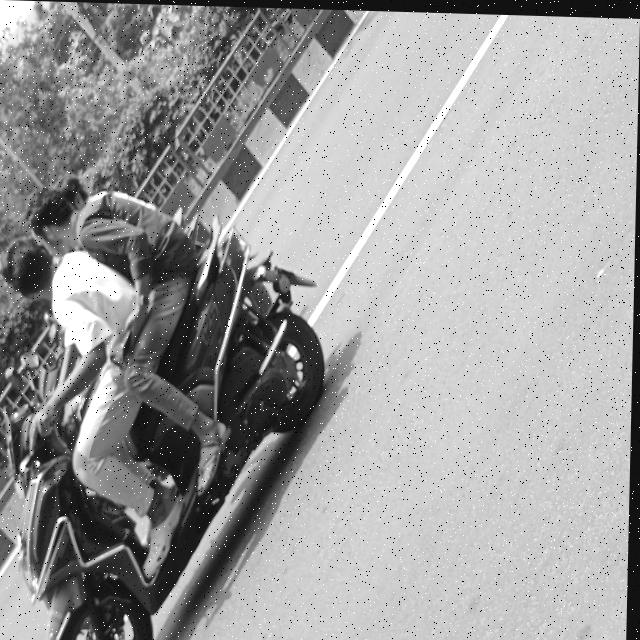bike: (0, 250, 294, 640)
